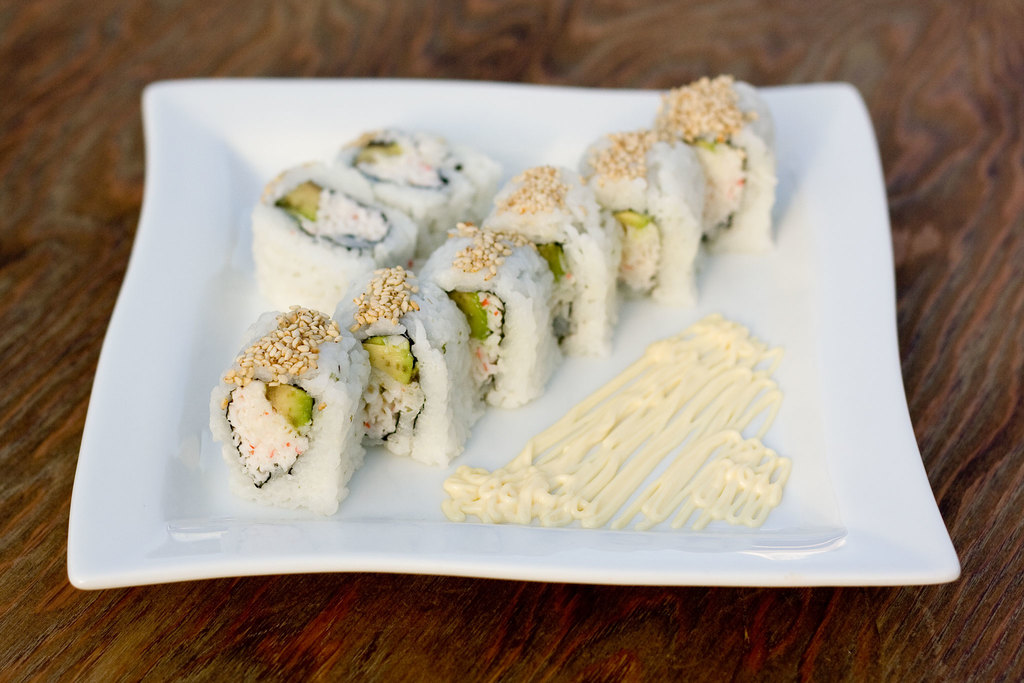sushi: (209, 75, 776, 519), (207, 308, 375, 507), (351, 309, 440, 466)
